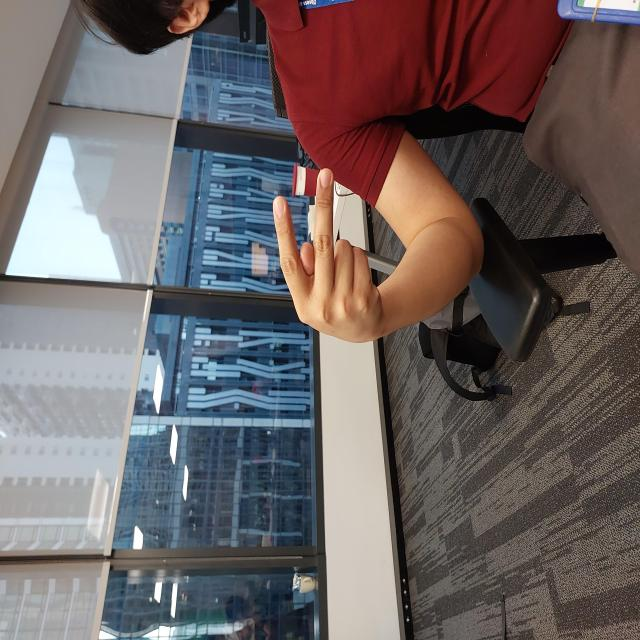K: (293, 269, 474, 384)
